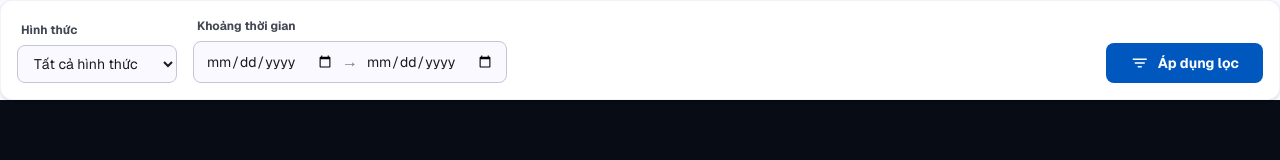
HistoryFilters › validates and shows error when fromDate > toDate
This screenshot has width=1280, height=160.
Type "2026-09-05" into the date field named "Từ ngày" at [270, 62], box [206,52,334,72]
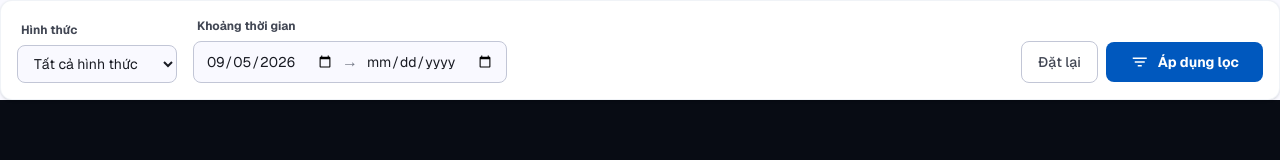
Type "2026-09-03" into the date field named "Đến ngày" at [430, 62], box [366,52,494,72]
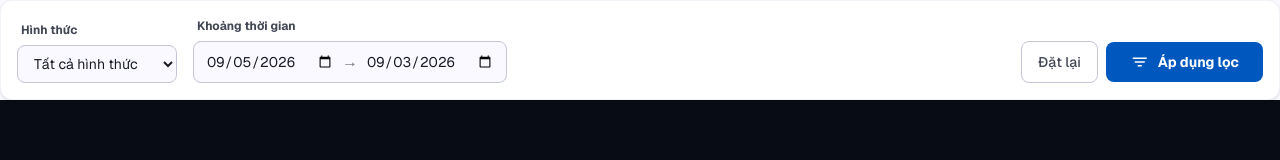
Click the button "Áp dụng lọc" at [1184, 62], box [1106,42,1263,82]
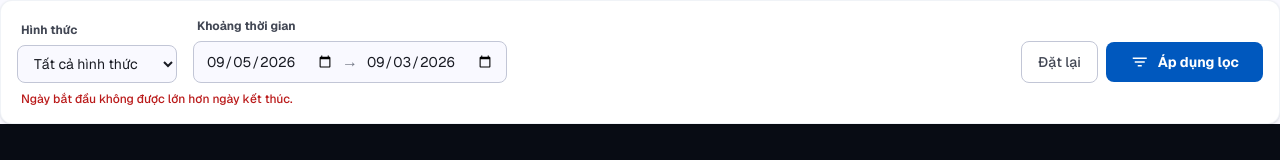
Check: the text "Ngày bắt đầu không được lớn hơn ngày kết thúc." is shown, box [21,91,293,107]
